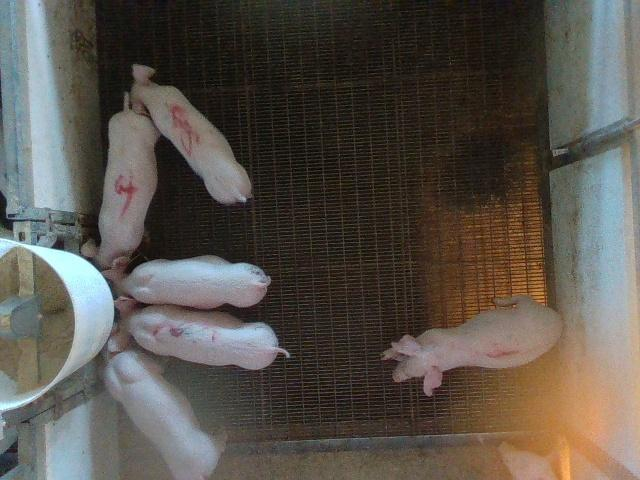pig-1: (382, 295, 561, 396)
pig-3: (108, 296, 290, 369)
pig-4: (81, 94, 161, 270), (132, 65, 153, 91)
pig-5: (130, 65, 251, 204)
